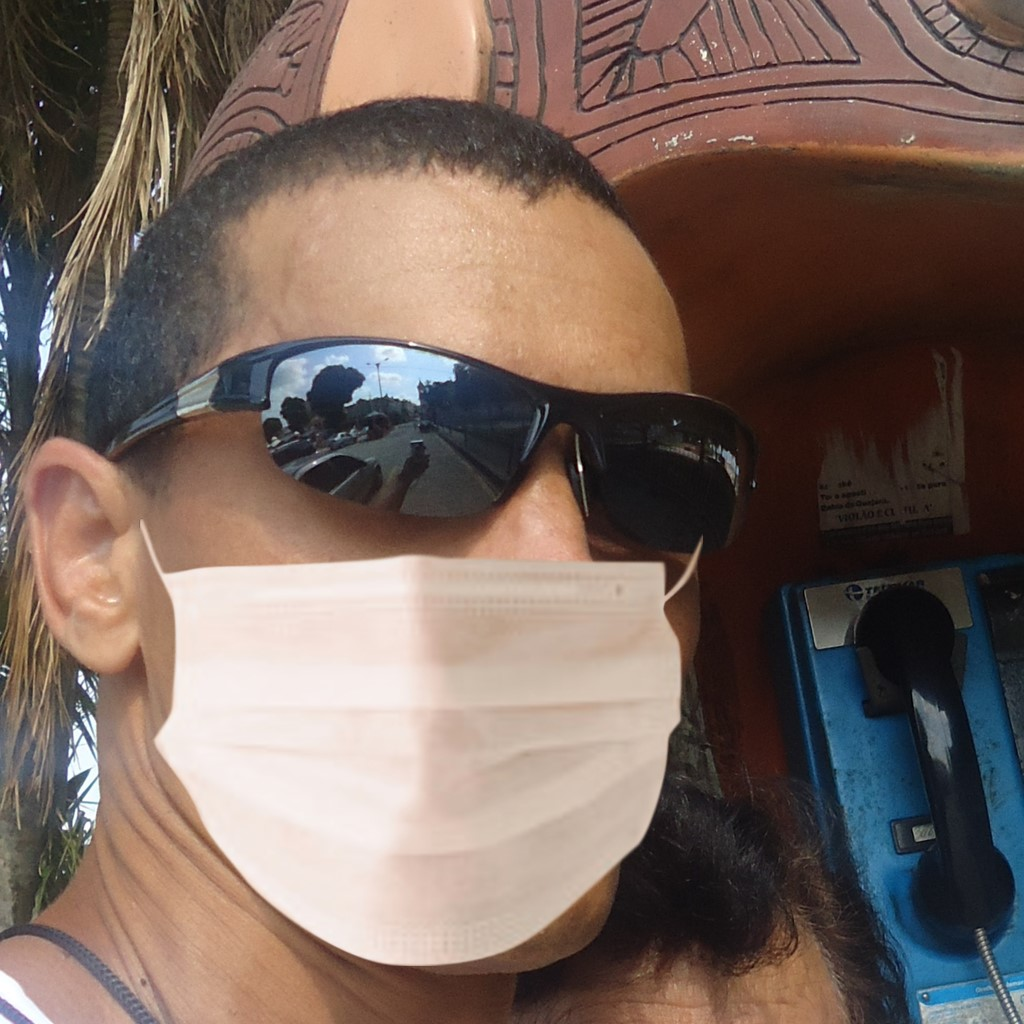con_mascara: (110, 146, 706, 985)
